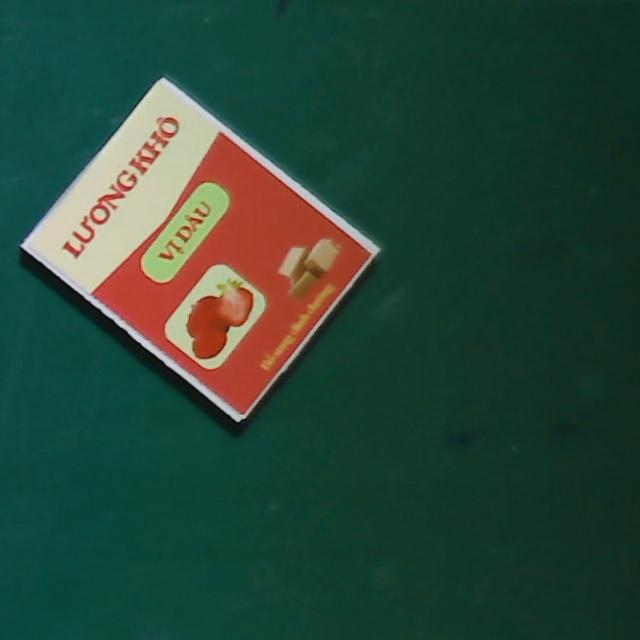dau: (17, 71, 382, 425)
